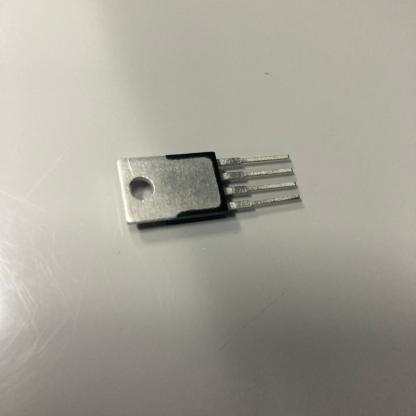SP0000012: (75, 104, 352, 266)
